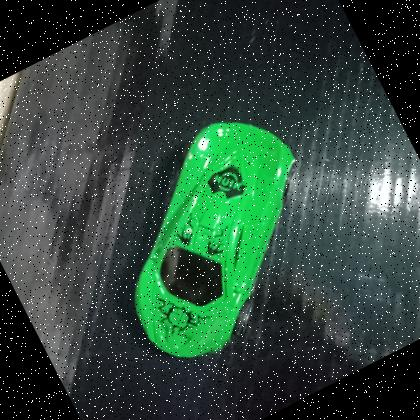Car: (64, 87, 366, 388)
